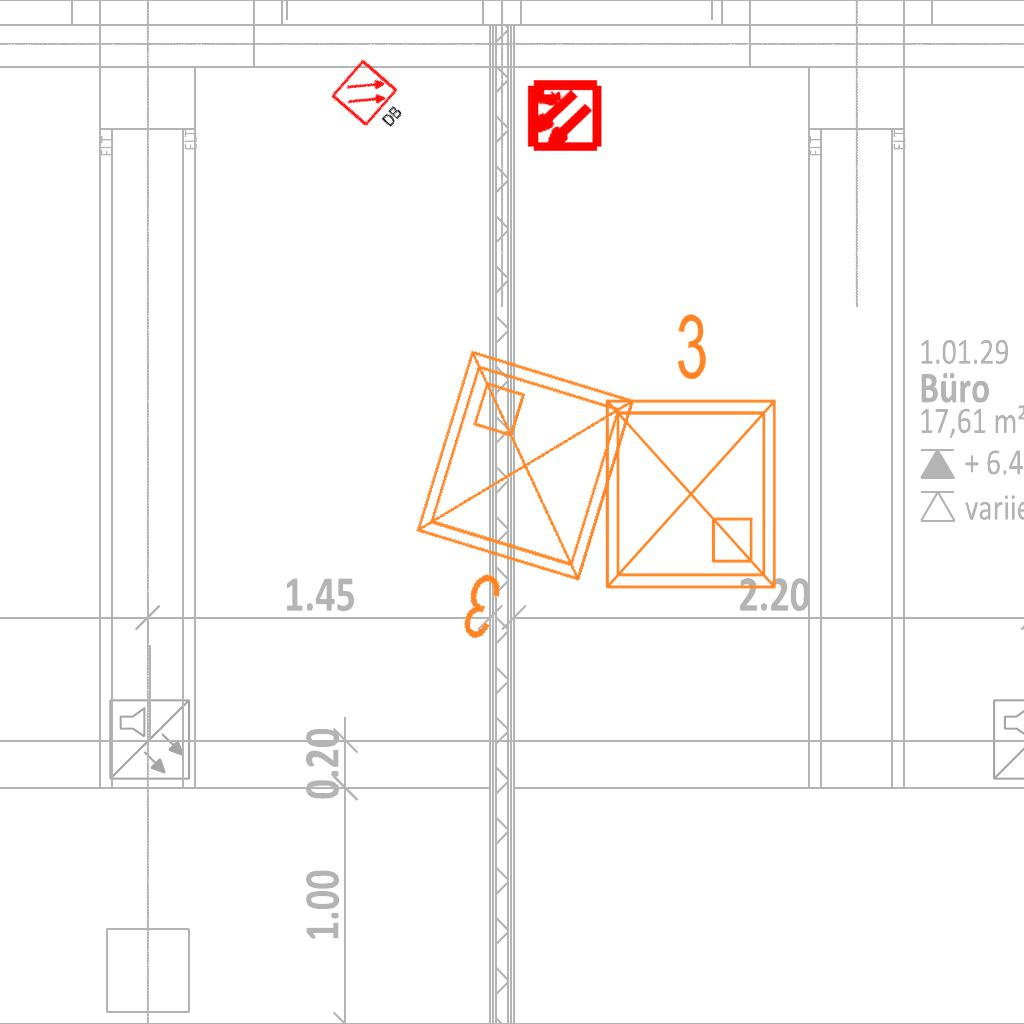DB_Melder_in_Doppelboden_mit_Revisionsoeffnung_mind_40_x_40_cm: (325, 53, 420, 145)
Einbaudownlights_LED_Konferenzraeume: (373, 332, 661, 680), (583, 303, 791, 603)
OT_Multisensormelder_(Kombination_RMO_WMD): (506, 59, 619, 172)
